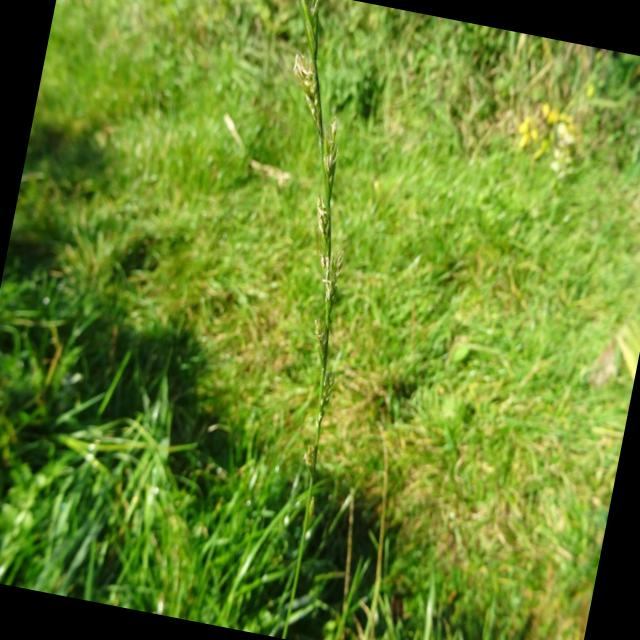Lolium: (171, 0, 415, 638)
